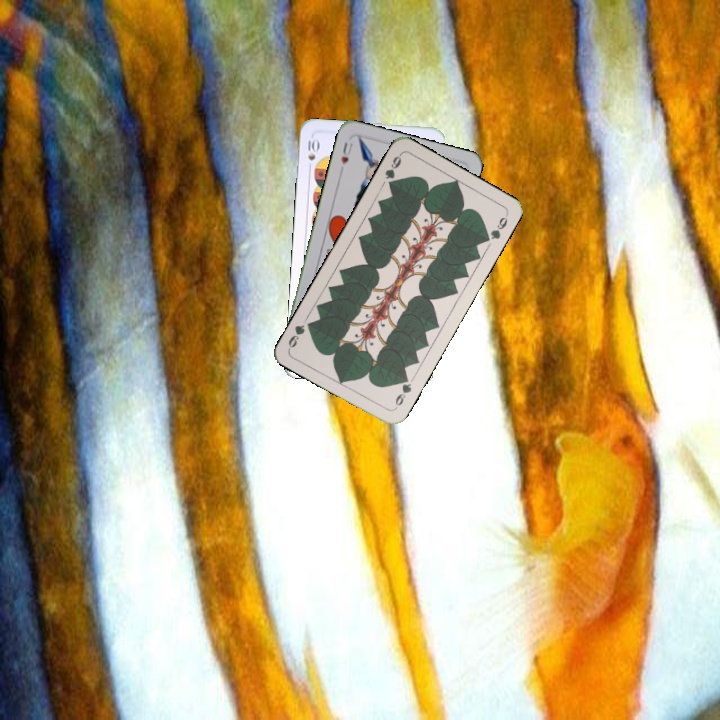G9: (381, 150, 404, 190), (391, 371, 414, 411)
HU: (337, 138, 355, 167)
S10: (303, 135, 321, 163)
